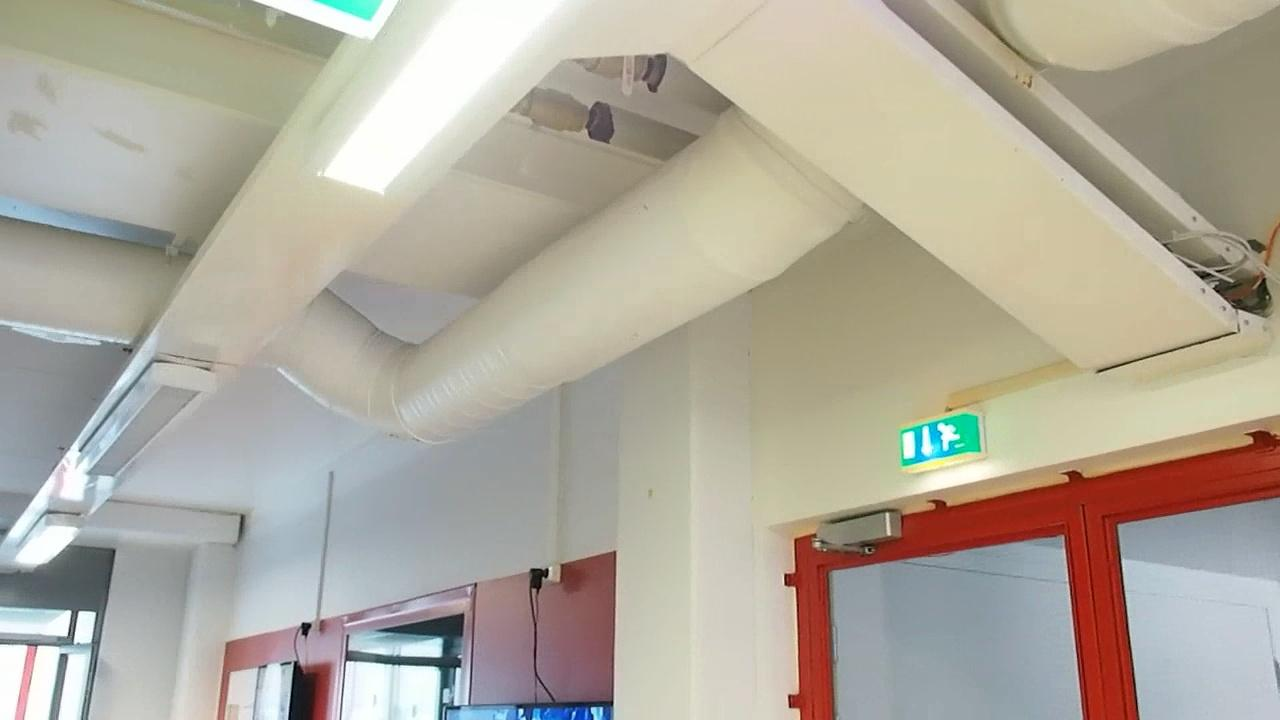exit: (893, 405, 983, 472)
